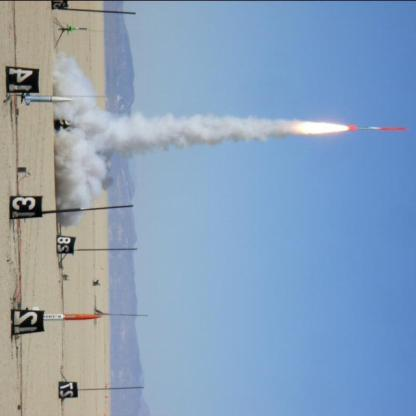MIL_TBM: (22, 310, 106, 320), (348, 124, 411, 133)
